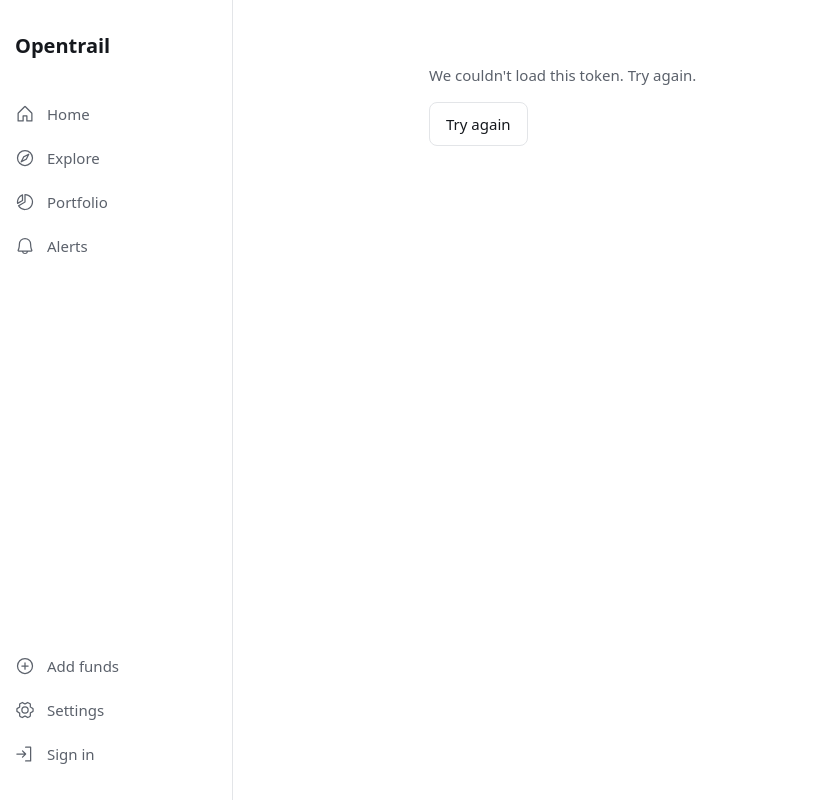
Test case: token page › says when the token can't load, and tries again
Check: the text "We couldn't load this token. Try again." is shown, box [429,64,696,86]
Click the button "Try again" at (478, 124), box [429,102,528,146]
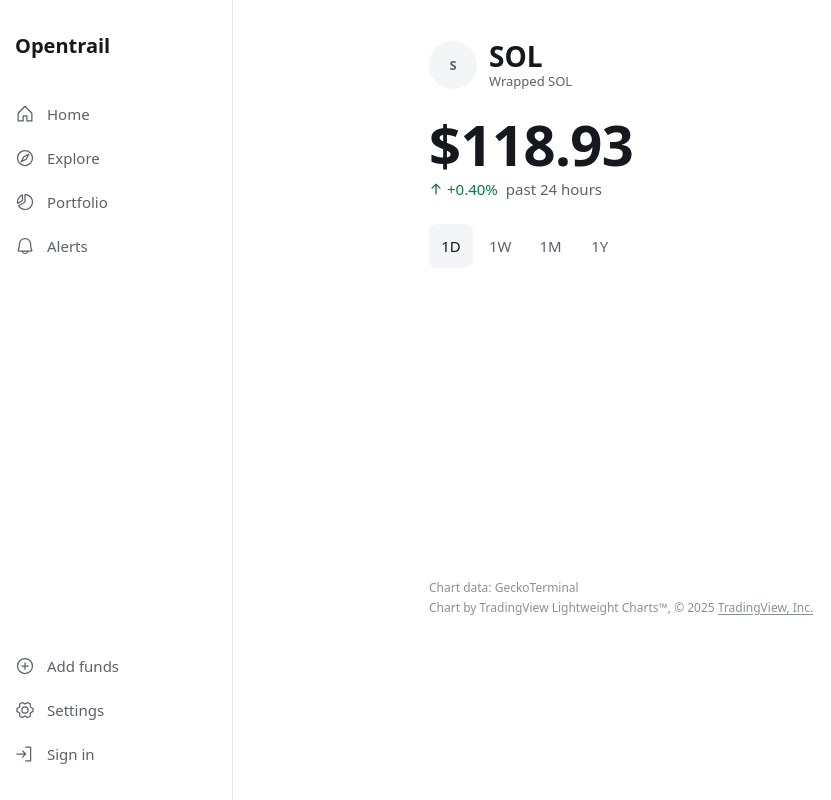
Check: the heading "SOL" is shown, box [489,37,542,75]
